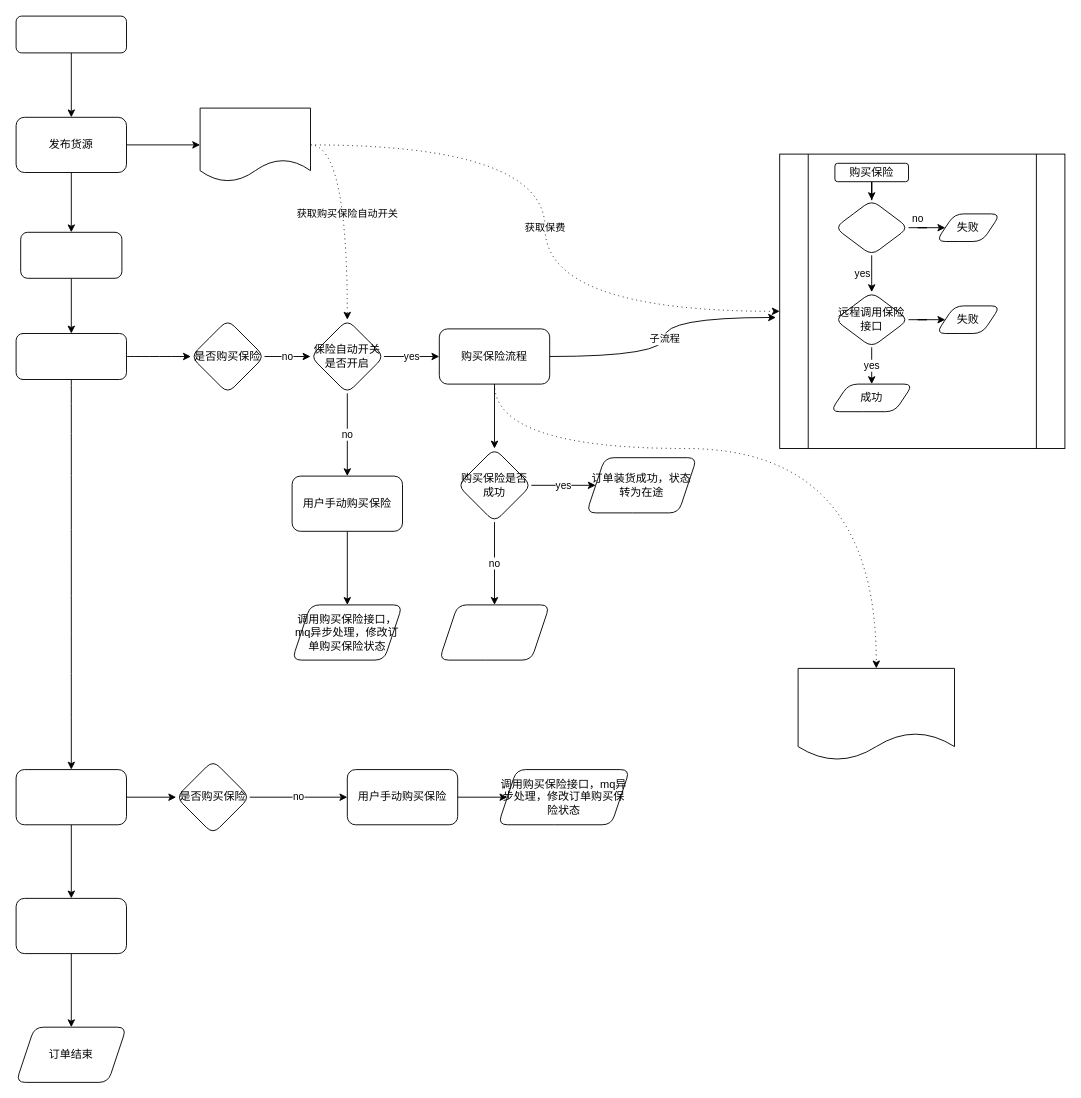
This 1081x1098 diagram has some shape labels left out. Here are the shapes that lost their labels. From the top down, the centre of each, then its label:
At (x=70, y=34): "开始".
At (x=254, y=144): "1. 货物价值 2. 保费费率 3. 计算保费".
At (x=871, y=227): "货主金额是否充足".
At (x=71, y=254): "抢单/配单".
At (x=70, y=356): "待装".
At (x=494, y=632): "订单装货中断，必须购买成功才允许，状态流转".
At (x=875, y=713): "考虑用事务控制| mq异步处理，添加顶端装货中状态".
At (x=70, y=797): "在途".
At (x=70, y=925): "卸货".
